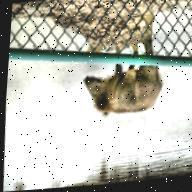boar: (84, 38, 192, 130)
